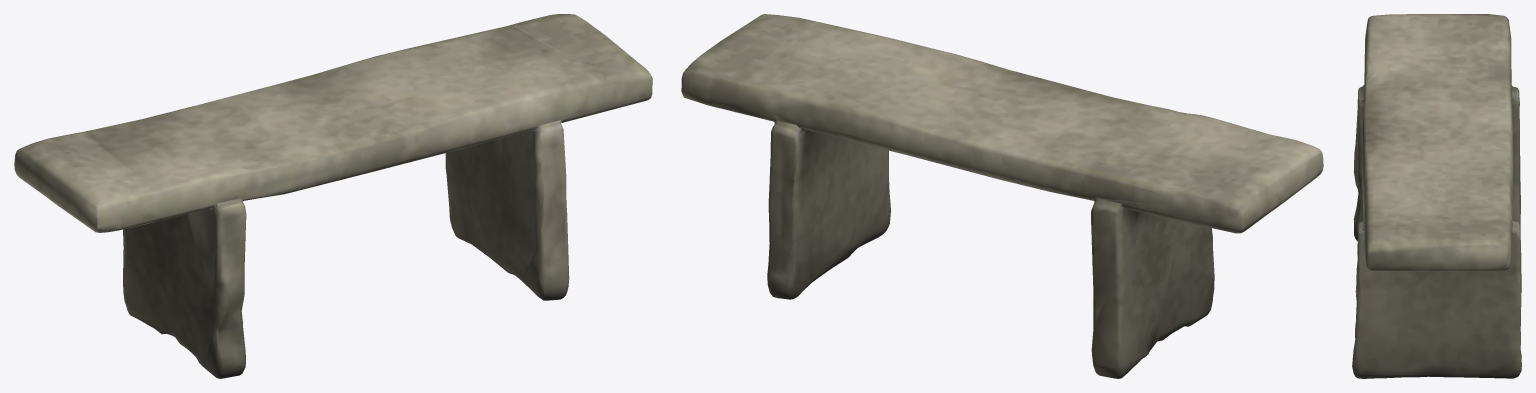
The model's file is old-limestone-bench-v001.glb.
3 views of the same model, side by side, from view 1: azimuth 30°, elevation 25°; view 2: azimuth 150°, elevation 25°; view 3: azimuth 270°, elevation 25° (orthographic). The views are drawn at different scales.
Visible parts, largest first — view 1: old-limestone-bench; view 2: old-limestone-bench; view 3: old-limestone-bench.
Part boxes in pixels (x1,y1,x2,y2): old-limestone-bench: (14,14,652,378); old-limestone-bench: (681,14,1323,378); old-limestone-bench: (1352,14,1521,378).
Size of the model in its own units: 1.22 by 0.4296 by 0.3745.
Materials: 1 (1 with a texture image).
